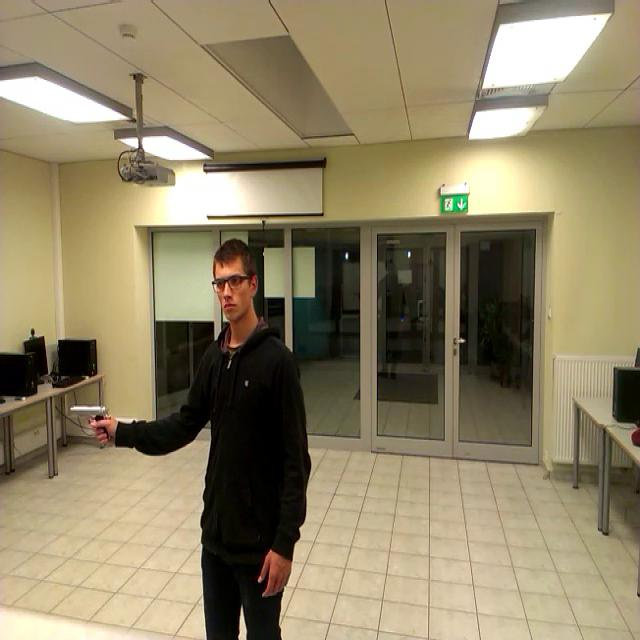handgun: (67, 394, 117, 449)
